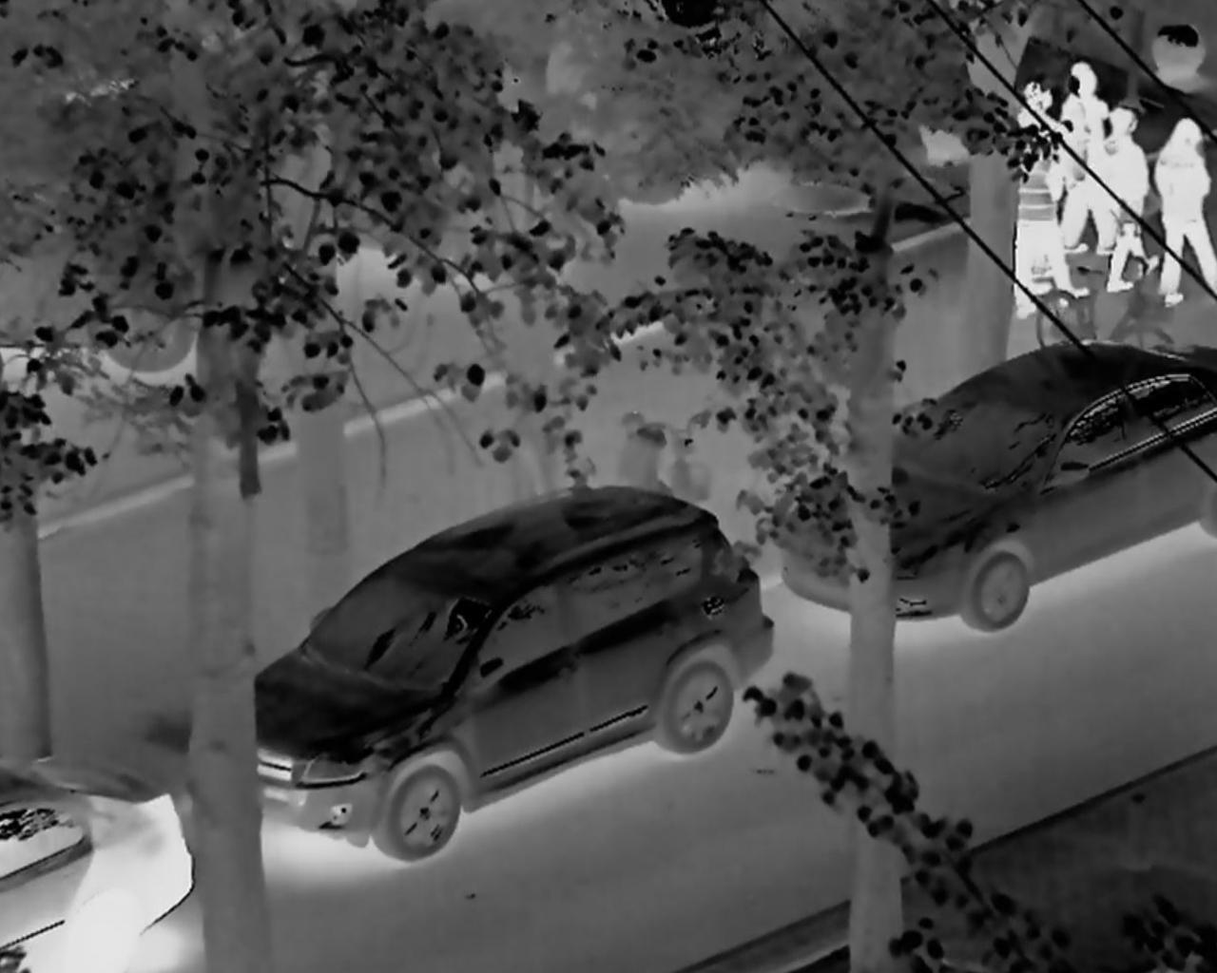person: (1009, 91, 1076, 311), (1152, 111, 1217, 313), (1104, 109, 1156, 277), (1056, 62, 1102, 238)
